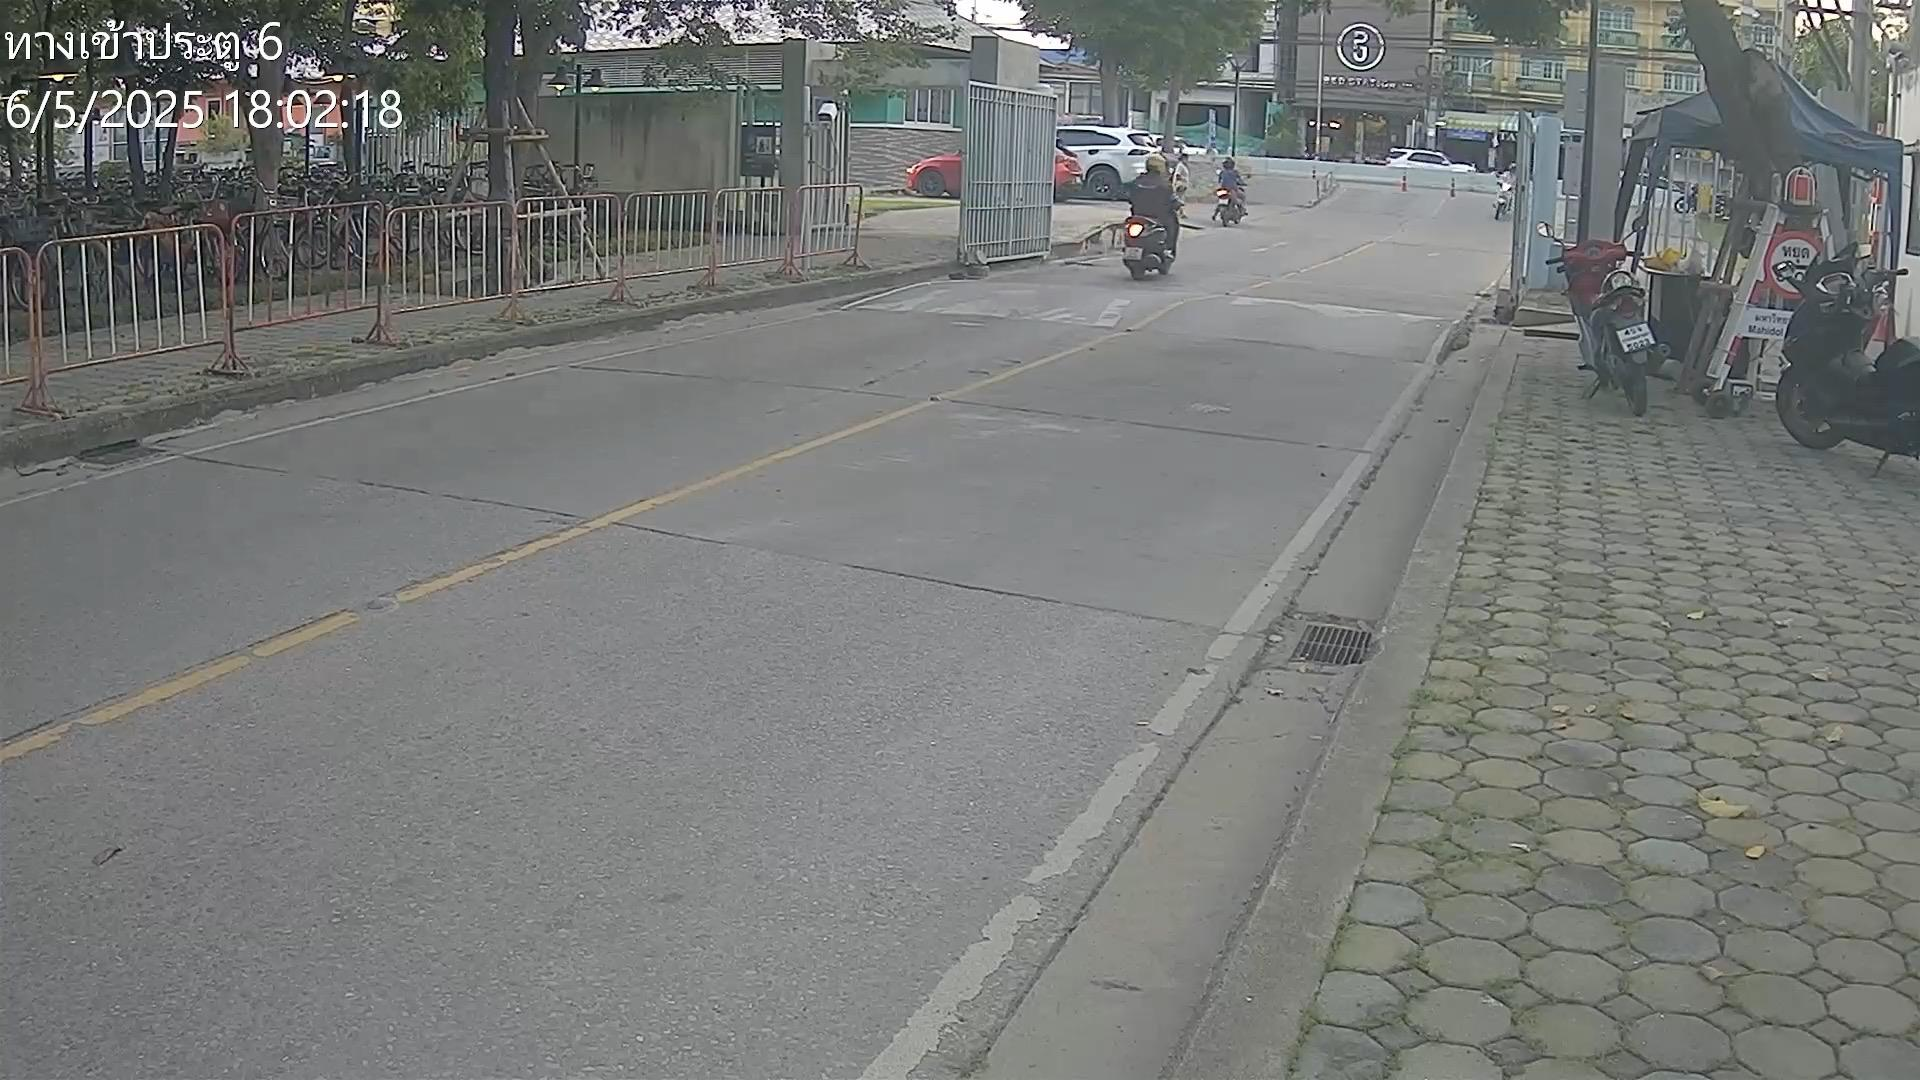With-Helmet: (1146, 152, 1168, 173), (1222, 156, 1236, 169)
